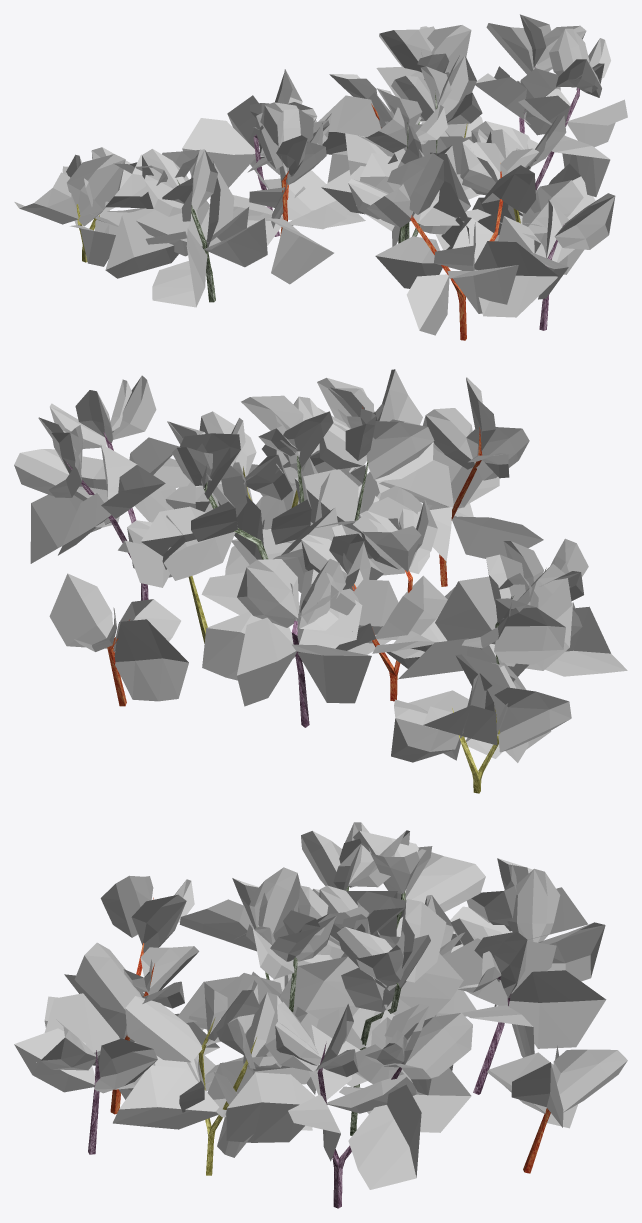
File: FanCoral_Cluster_Low.obj
The picture shows the model from 3 angles, top to bottom: view 1: azimuth 30°, elevation 25°; view 2: azimuth 150°, elevation 25°; view 3: azimuth 270°, elevation 25°; orthographic projection. The views are drawn at different scales.
Visible parts, largest first — view 1: LOD0; view 2: LOD0; view 3: LOD0.
Part boxes in pixels (box(x1,y1,x2,y2)): LOD0: box(14, 14, 627, 340); LOD0: box(14, 369, 627, 793); LOD0: box(14, 822, 627, 1208).
Bounding box in the file's own units: 17.52 × 6.52 × 14.74.
